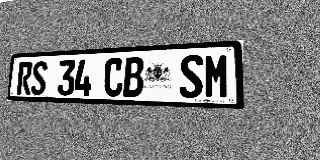3: (57, 60, 75, 96)
4: (74, 59, 93, 96)
B: (123, 57, 144, 97)
C: (104, 58, 124, 97)
M: (204, 53, 230, 99)
R: (17, 62, 33, 95)
S: (179, 54, 203, 98), (31, 61, 48, 95)
